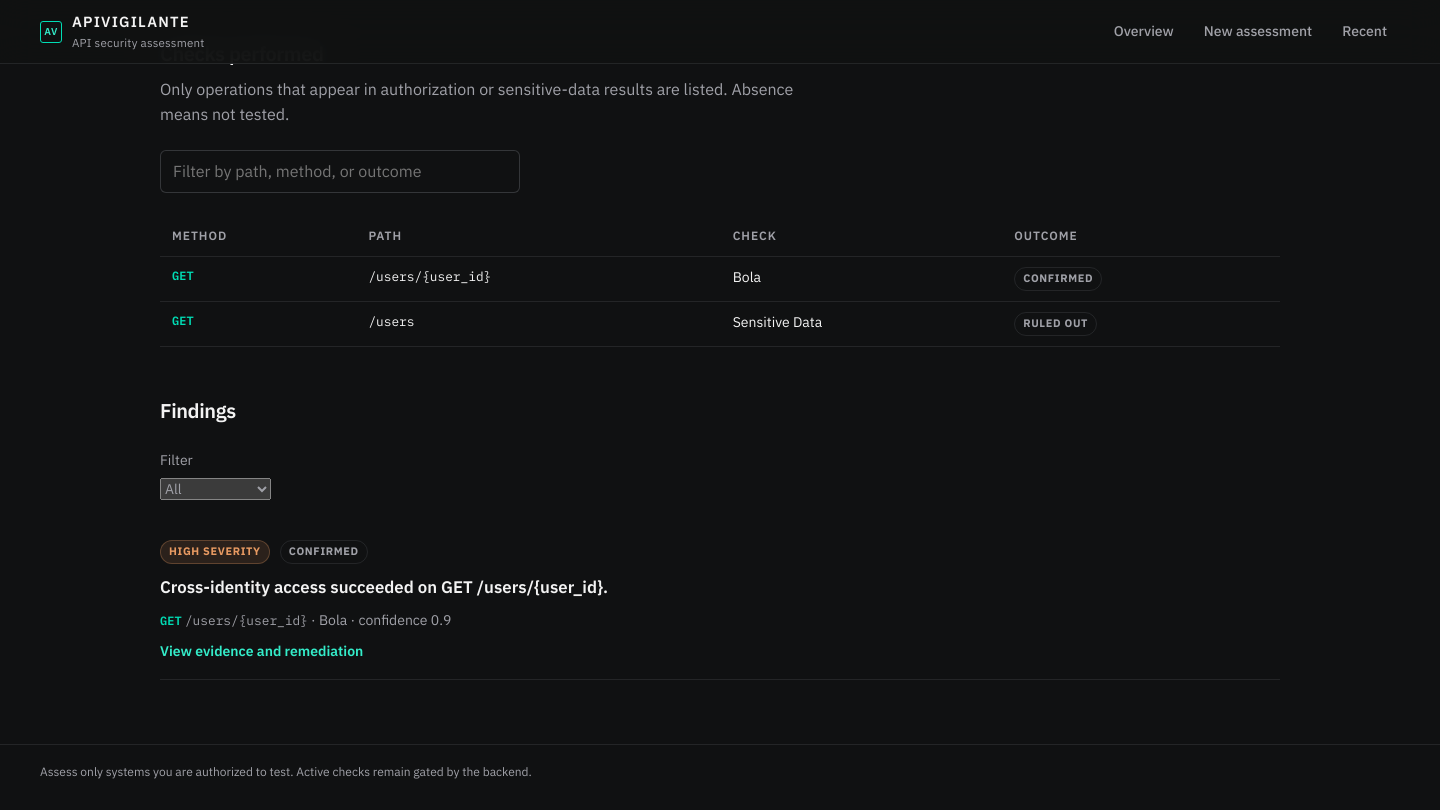
Test case: APIVigilante application › opens finding evidence from the report payload
(page scrolled)
Click the link "View evidence and remediation": (262, 651) left=160, top=642, right=363, bottom=660
(page scrolled)
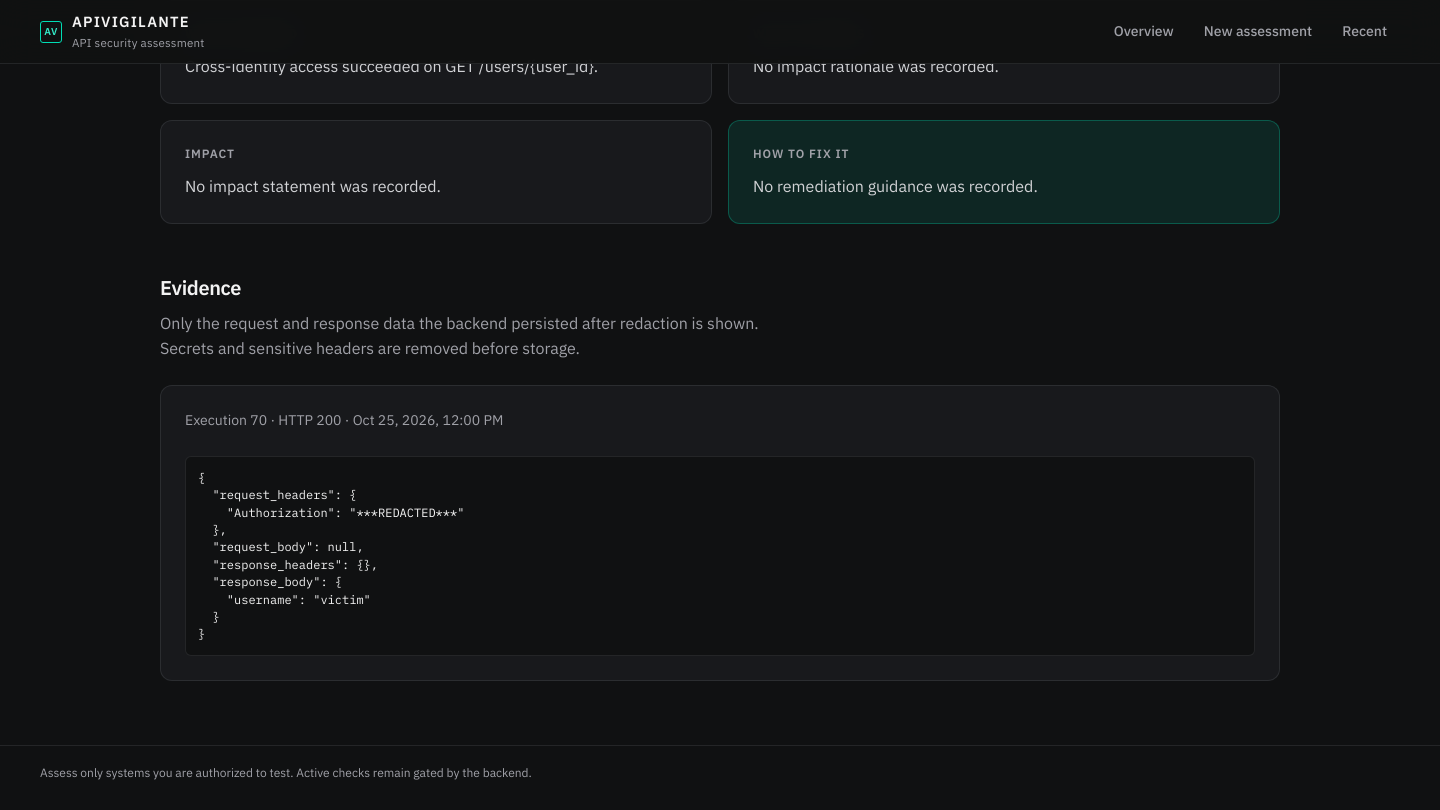
Expected: the text "Execution 70 · HTTP 200 · Oct 25, 2026, 12:00 PM" is shown, left=185, top=411, right=503, bottom=429
Expected: the text "***REDACTED***" is shown, left=198, top=470, right=464, bottom=641
